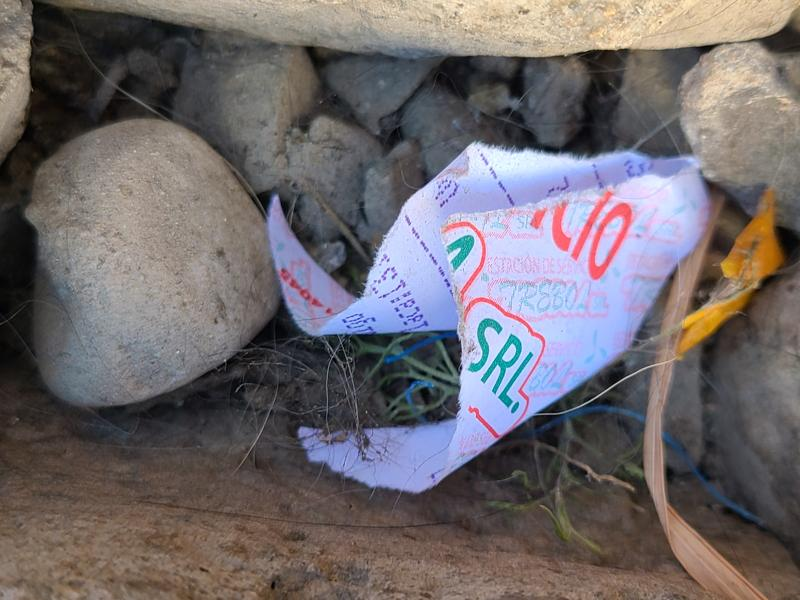papel: (266, 143, 711, 495)
